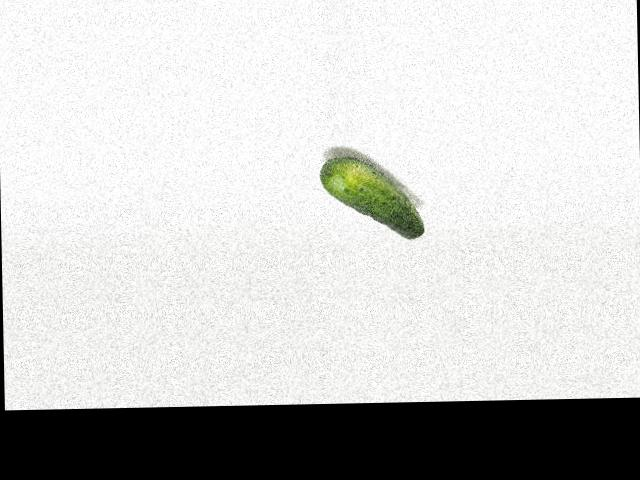cucumber: (320, 156, 425, 240)
